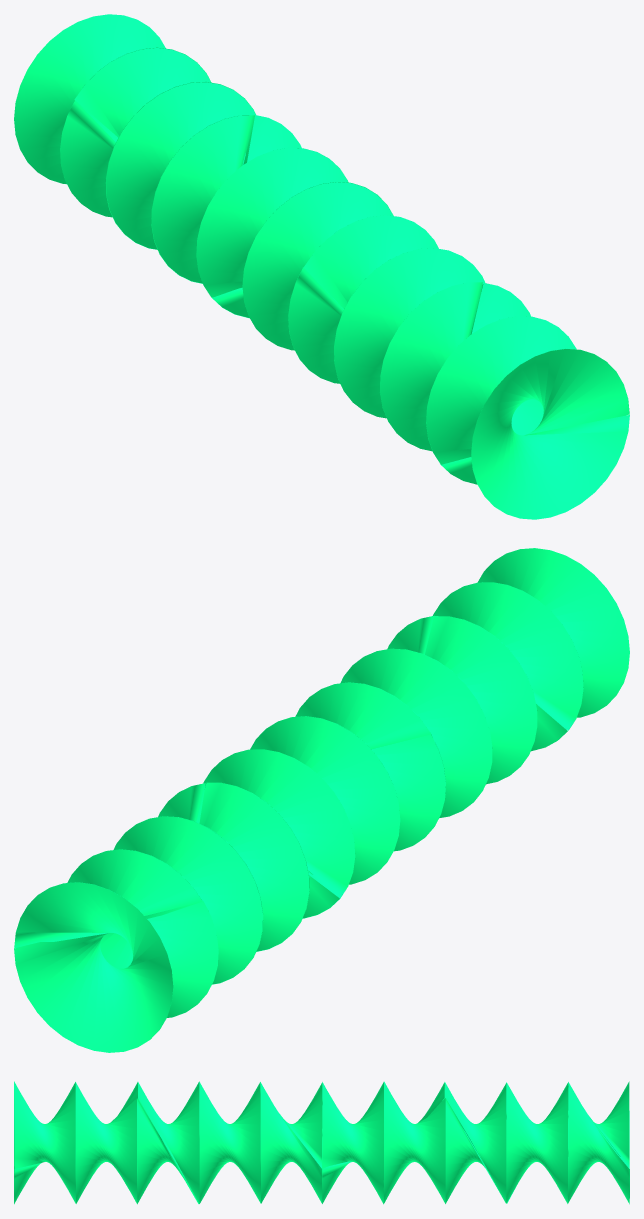
File: babylonian_square_root_ar_universal.glb
3 renders of one model, top to bottom at view 1: azimuth 30°, elevation 25°; view 2: azimuth 150°, elevation 25°; view 3: azimuth 270°, elevation 25°, orthographic. The views are drawn at different scales.
Visible parts, largest first — view 1: babylonian_square_root_ar; view 2: babylonian_square_root_ar; view 3: babylonian_square_root_ar.
Part boxes in pixels (x1,y1,x2,y2): babylonian_square_root_ar: [14, 14, 629, 519]; babylonian_square_root_ar: [14, 548, 629, 1052]; babylonian_square_root_ar: [14, 1081, 629, 1204].
Size of the model in its own units: 0.2006 by 0.2006 by 1.
